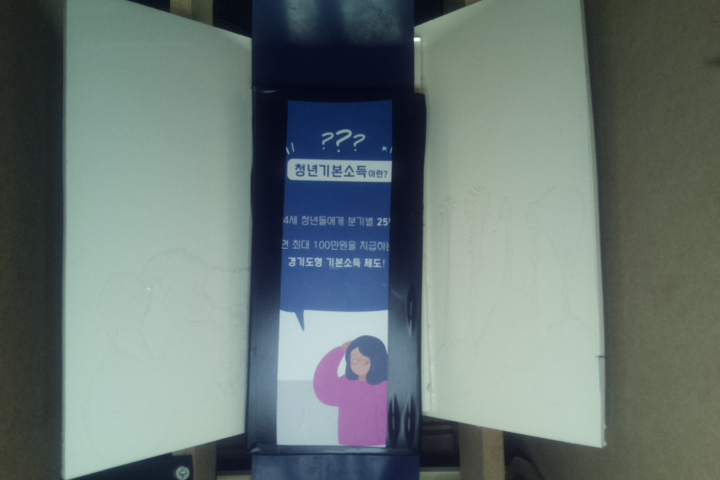book: (242, 91, 426, 455)
